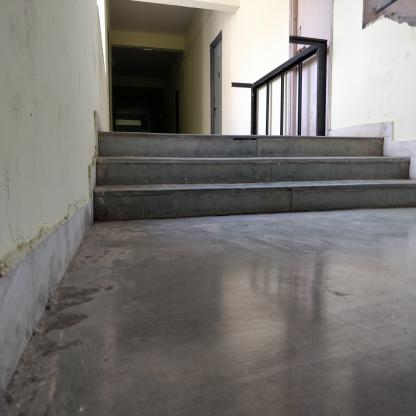stairs: (101, 131, 386, 218)
